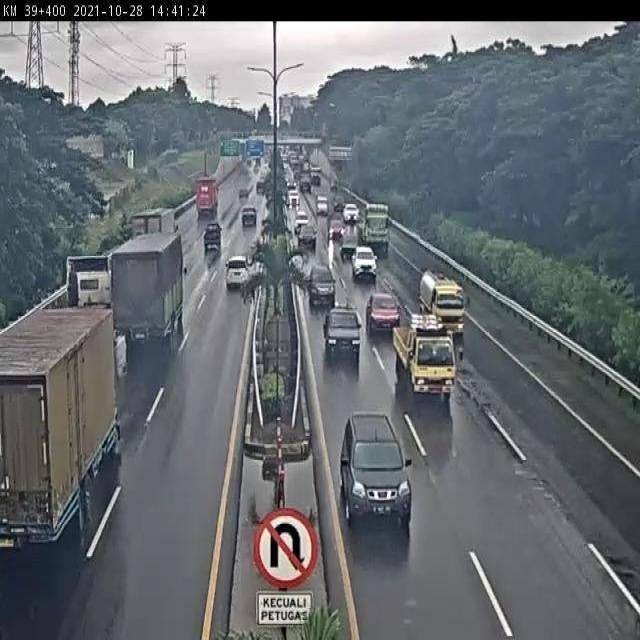big truck: (41, 252, 111, 345)
car: (338, 413, 412, 523), (323, 306, 361, 362), (366, 292, 401, 333), (307, 265, 336, 307), (225, 256, 253, 291), (351, 246, 377, 282), (203, 222, 222, 250)
mid truck: (0, 302, 122, 550), (108, 231, 186, 344), (130, 208, 179, 253)
truck-m-: (393, 312, 457, 403), (418, 268, 467, 341)
